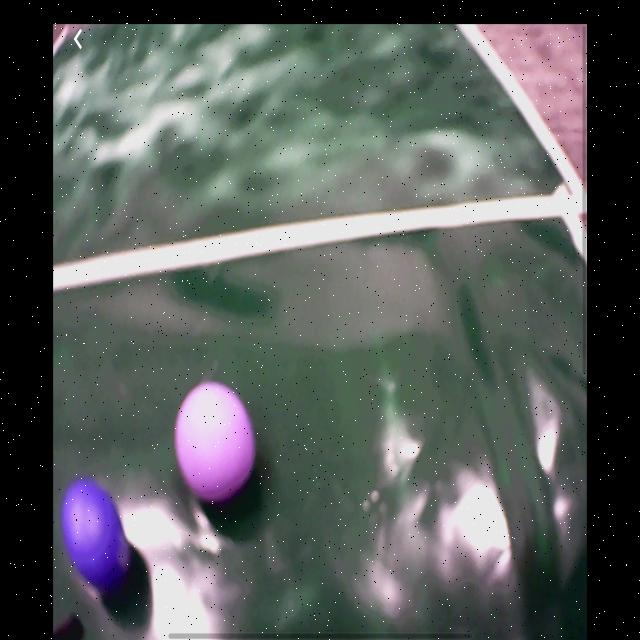ball: (175, 381, 257, 506), (60, 477, 130, 597)
